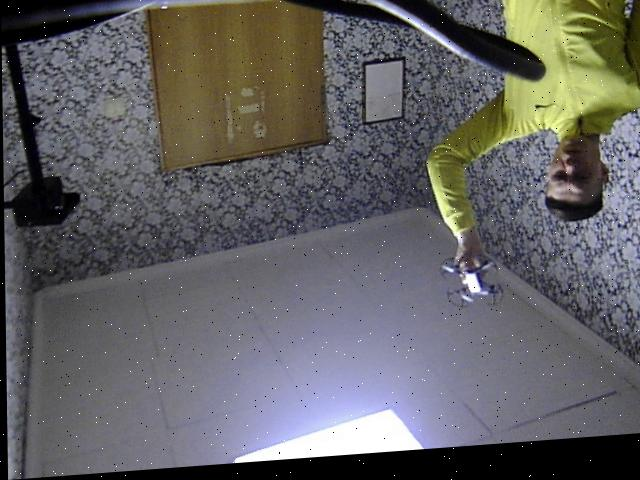drone: (433, 250, 504, 322)
